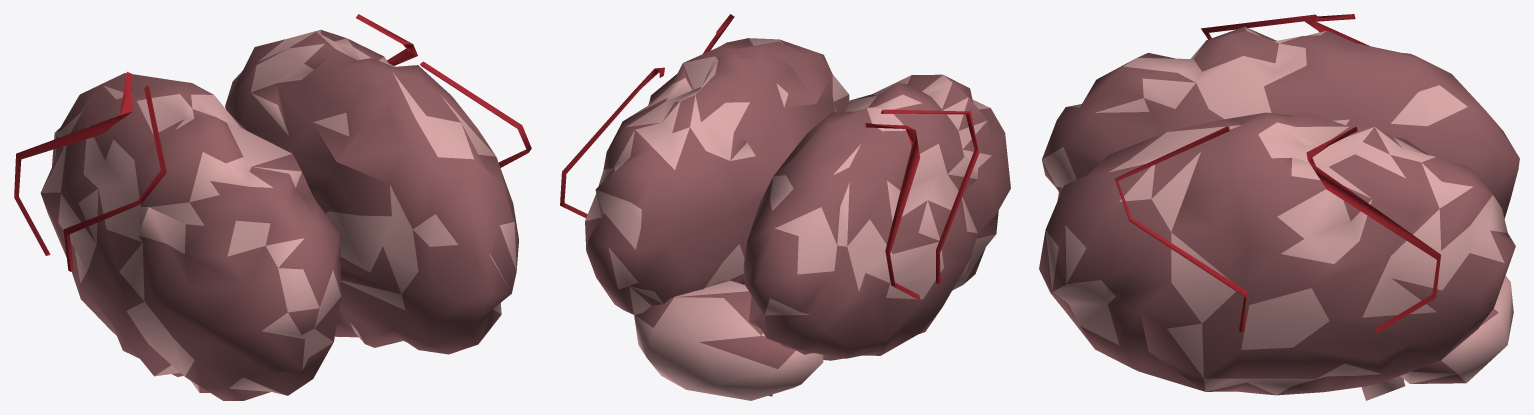
The model's file is survivor_brain.glb.
The picture shows the model from 3 angles, left to right: view 1: azimuth 30°, elevation 25°; view 2: azimuth 150°, elevation 25°; view 3: azimuth 270°, elevation 25°; orthographic projection. The views are drawn at different scales.
Parts seen in each view (by area): view 1: survivor_brain; view 2: survivor_brain; view 3: survivor_brain.
Part boxes in pixels (left/top/right/bottom): survivor_brain: left=14, top=14, right=531, bottom=400; survivor_brain: left=560, top=14, right=1010, bottom=400; survivor_brain: left=1039, top=14, right=1519, bottom=400.
Bounding box in the file's own units: 0.1236 × 0.1019 × 0.1374.
